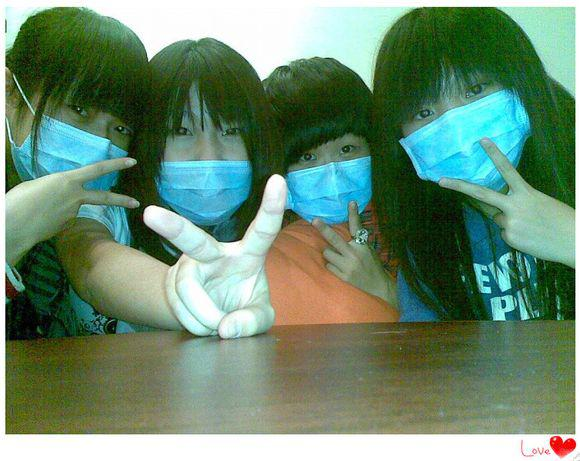OK: (401, 72, 526, 197), (10, 84, 125, 204), (286, 129, 376, 220)
WRONG: (150, 113, 256, 223)
